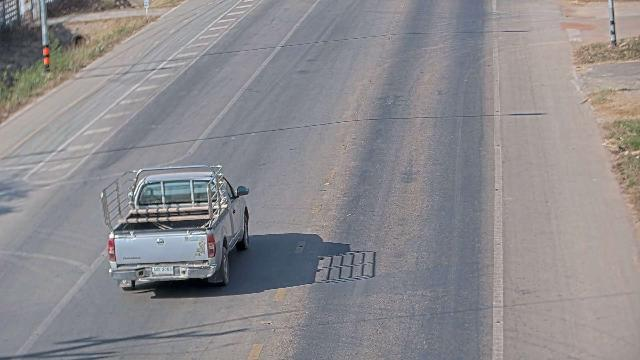pickup-truck: (99, 163, 250, 290)
